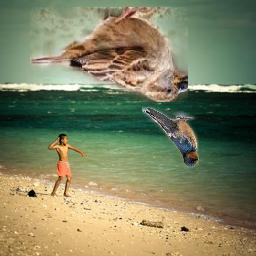Sparrow: (30, 8, 188, 103)
Swallow: (143, 107, 200, 167)
